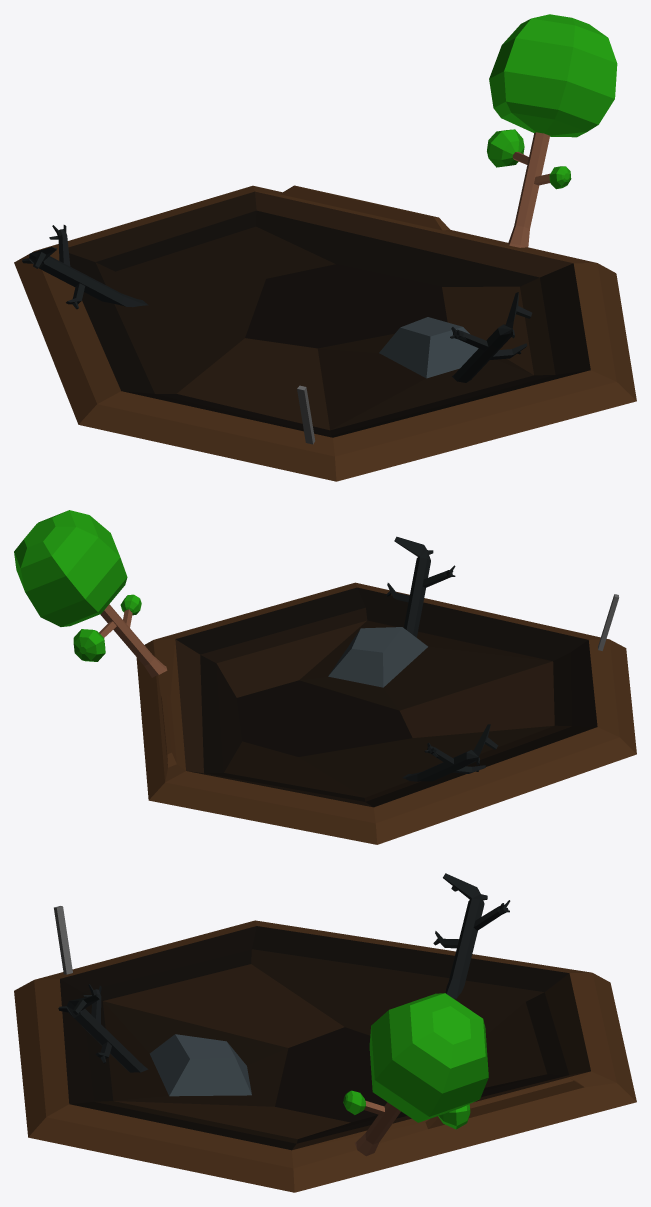
File: CraterC.fbx
3 views of the same model, one above another, from view 1: azimuth 30°, elevation 25°; view 2: azimuth 150°, elevation 25°; view 3: azimuth 270°, elevation 25° (orthographic). The views are drawn at different scales.
Parts seen in each view (by area): view 1: Cylinder.002; view 2: Cylinder.002; view 3: Cylinder.002.
Boxes of the visible parts, x1,y1,x2,y2 form: Cylinder.002: (14, 14, 636, 481); Cylinder.002: (14, 510, 636, 844); Cylinder.002: (14, 873, 636, 1192).
Size of the model in its own units: 8414 by 2918 by 7474.
1 material, 1 textured.
